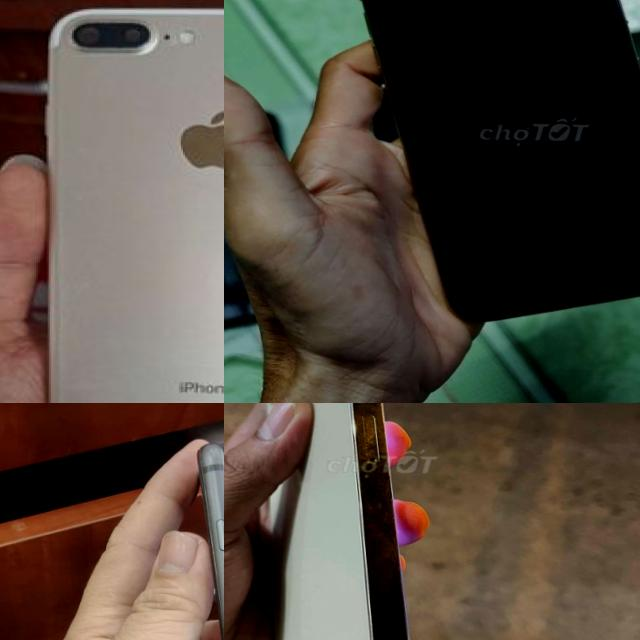gen_14: (229, 403, 443, 640)
gen_7_8: (30, 0, 224, 403)
gen_x_xs: (308, 0, 640, 327)
